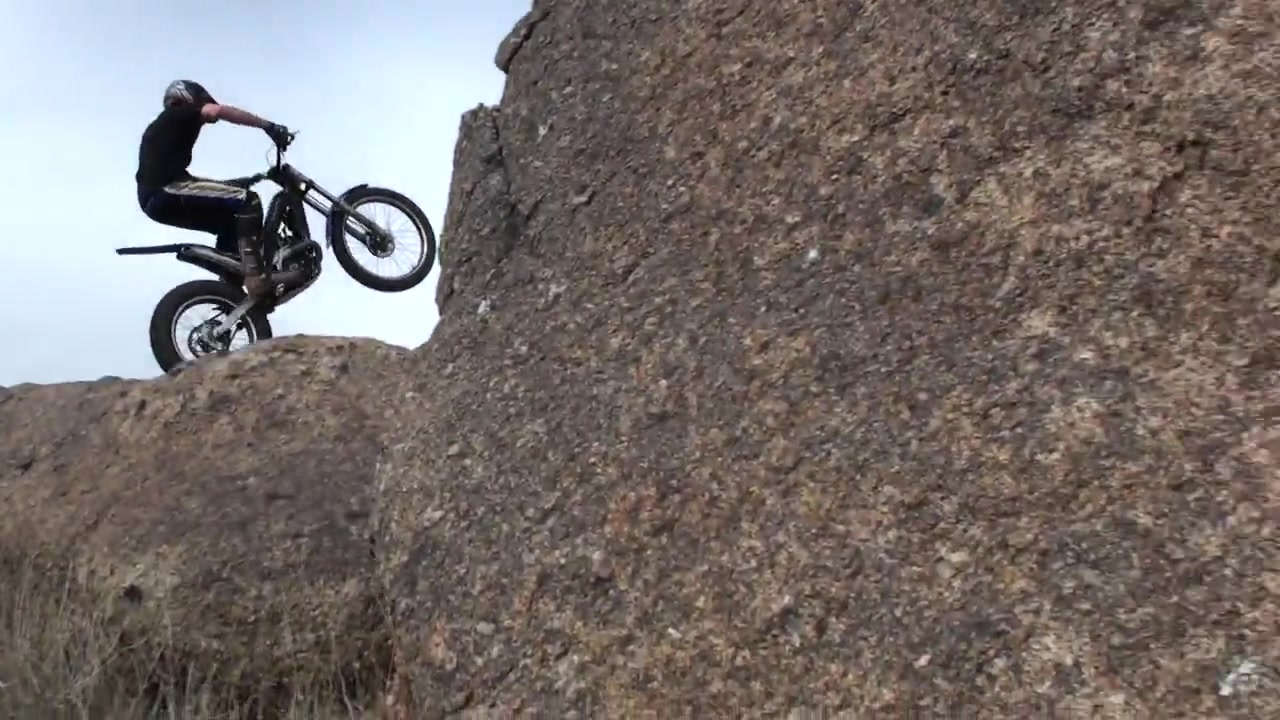motorbike: (112, 128, 438, 376)
